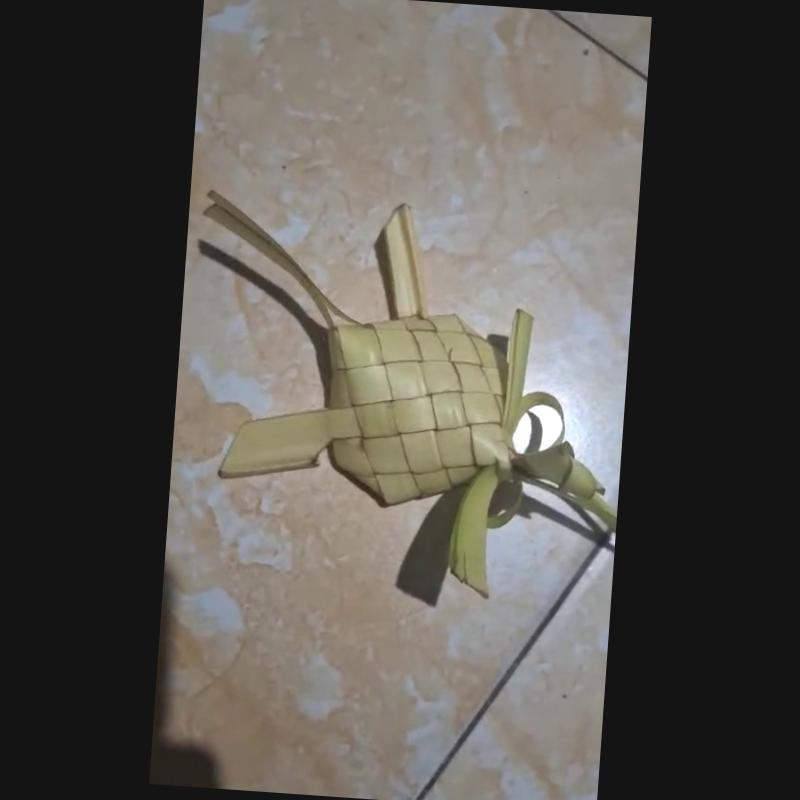Tipat Dampulan: (209, 178, 616, 607)
